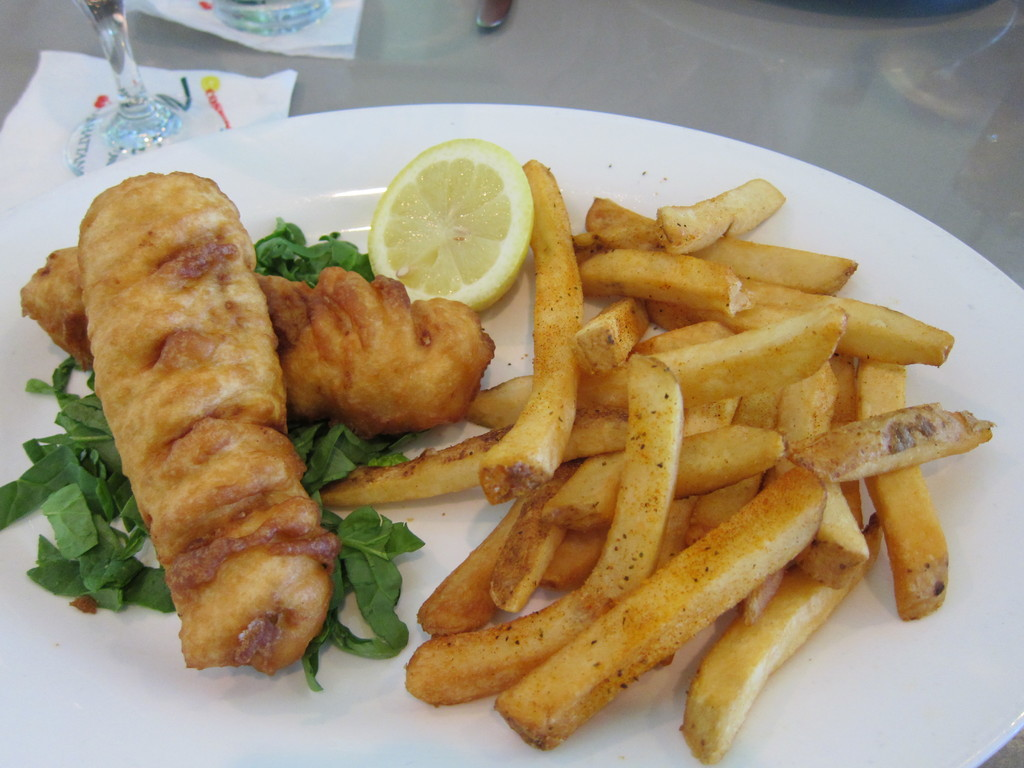French fries: (311, 151, 994, 764)
